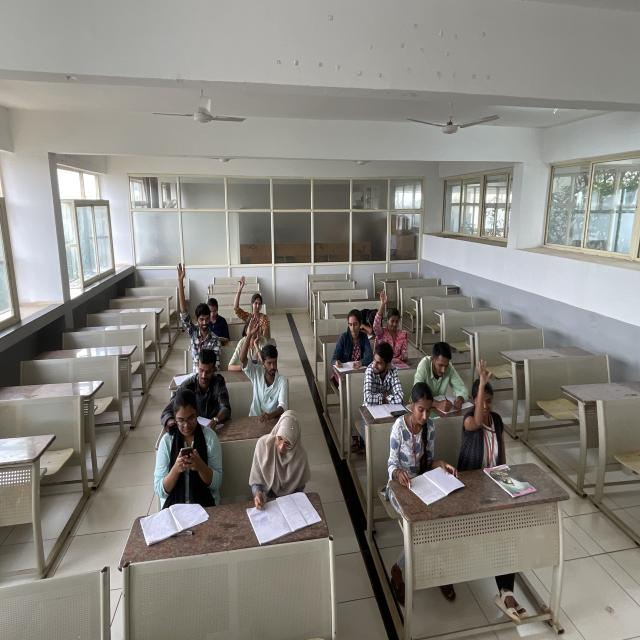Hand Rising: (463, 353, 517, 459), (238, 313, 287, 409), (176, 259, 222, 356), (376, 291, 415, 355), (232, 278, 269, 334)
Using Phone: (150, 388, 220, 497), (195, 300, 231, 348)
Writing: (379, 379, 457, 499), (156, 340, 242, 442), (246, 414, 313, 522), (416, 339, 476, 412), (332, 311, 373, 372)
